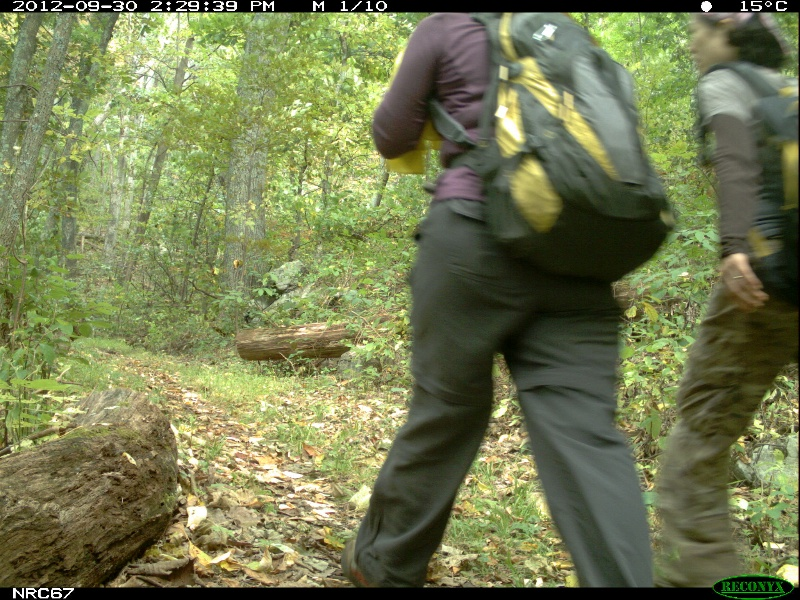human: (343, 15, 656, 589), (659, 15, 800, 587)
human face: (683, 19, 736, 67)
human legs: (342, 198, 662, 591), (663, 263, 800, 580)
